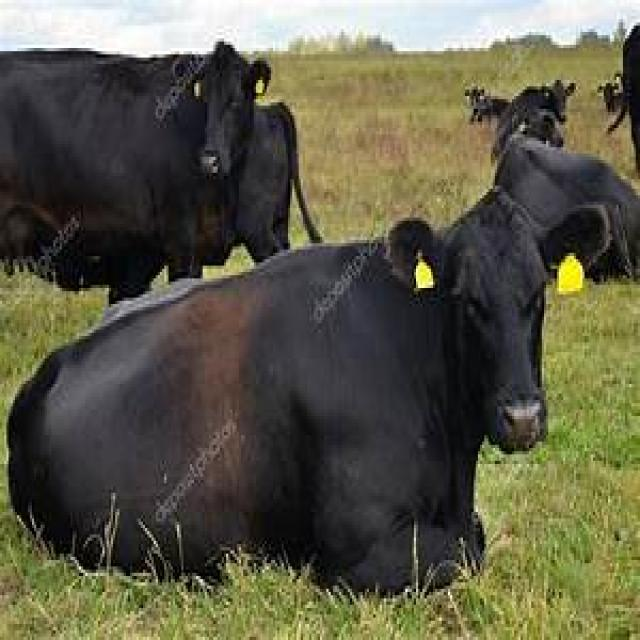cow: (4, 192, 608, 598), (0, 42, 271, 304), (493, 134, 640, 285), (224, 102, 322, 266)
